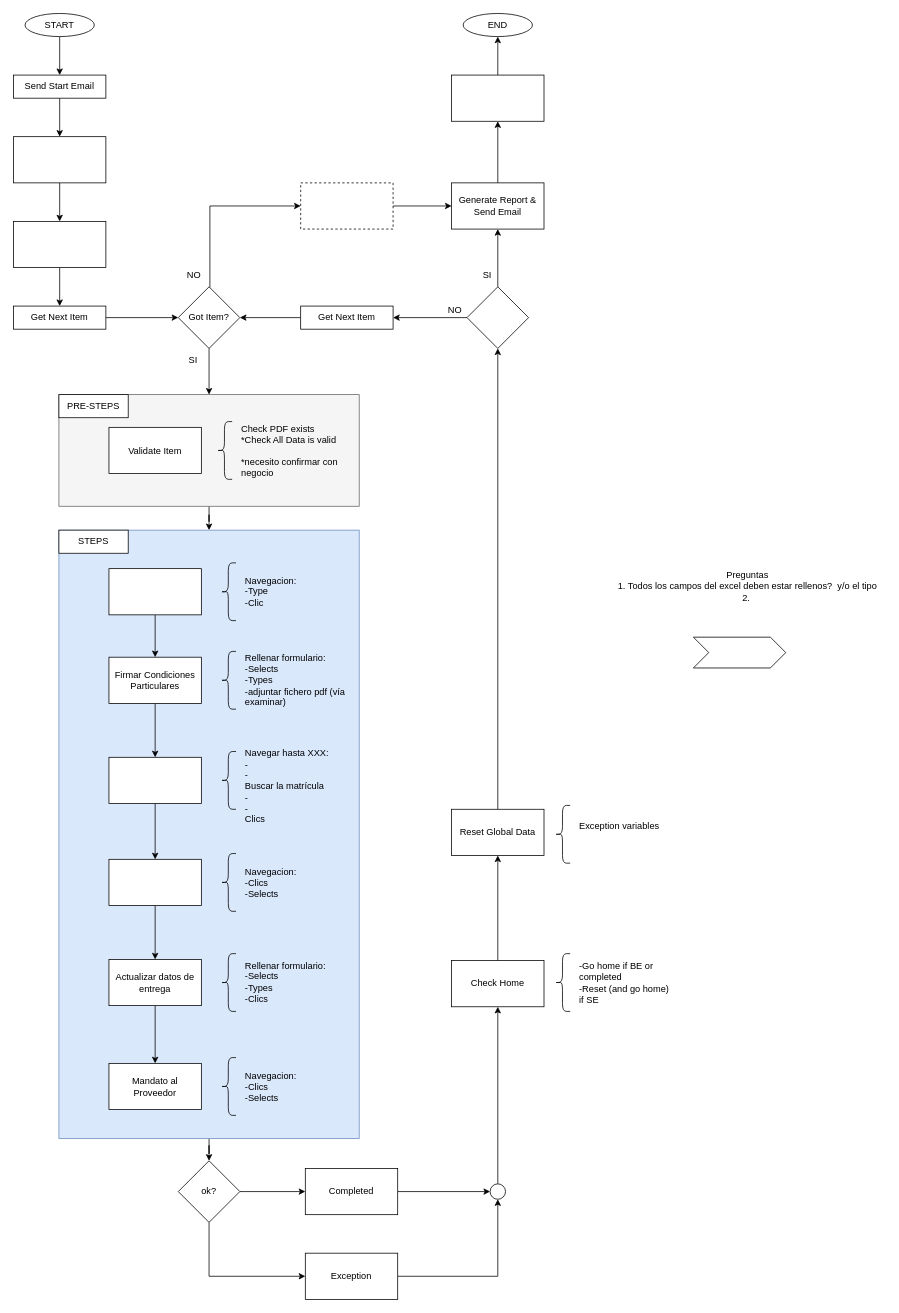
Image size: 899x1313. Some labels were removed from this diagram. Here are the shapes that lost their labels. From the top down, the box of each, then its label:
(451, 74, 544, 121): Close Down
(13, 136, 106, 183): Populate Queue
(300, 182, 393, 229): No more items
(13, 221, 106, 268): Startup
(466, 286, 529, 348): Stop?
(108, 568, 201, 615): Buscar Condiciones Particulares
(693, 636, 786, 668): TERMINATED
(108, 757, 201, 803): Asignar Matrícula
(108, 859, 201, 906): Uncheck cliente
